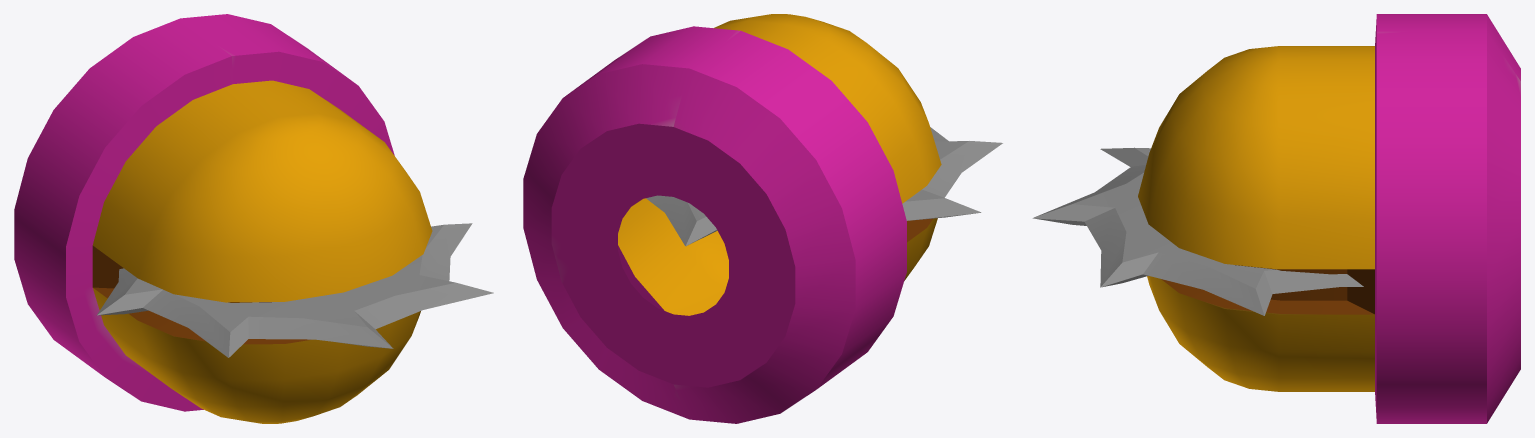
Rendered from Glove07_R.fbx.
The picture shows the model from 3 angles, left to right: view 1: azimuth 30°, elevation 25°; view 2: azimuth 150°, elevation 25°; view 3: azimuth 270°, elevation 25°; orthographic projection. The views are drawn at different scales.
Parts seen in each view (by area): view 1: Glove07_R; view 2: Glove07_R; view 3: Glove07_R.
Boxes of the visible parts, left/top/right/bottom form: Glove07_R: left=14, top=14, right=493, bottom=423; Glove07_R: left=523, top=14, right=1002, bottom=423; Glove07_R: left=1032, top=14, right=1520, bottom=423.
Size of the model in its own units: 66.2 by 58.99 by 69.7.
Materials: 1 (1 with a texture image).
